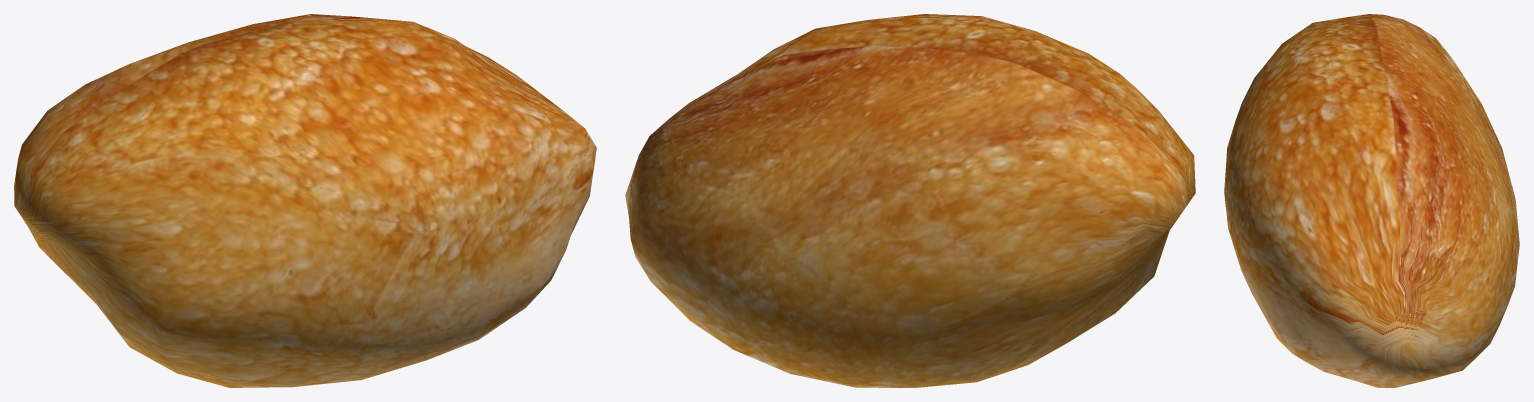
Rendered from luti2.fbx.
The picture shows the model from 3 angles, left to right: view 1: azimuth 30°, elevation 25°; view 2: azimuth 150°, elevation 25°; view 3: azimuth 270°, elevation 25°; orthographic projection. The views are drawn at different scales.
Parts seen in each view (by area): view 1: luti2; view 2: luti2; view 3: luti2.
Part boxes in pixels (left/top/right/bottom): luti2: left=14, top=14, right=596, bottom=387; luti2: left=625, top=14, right=1195, bottom=387; luti2: left=1224, top=14, right=1519, bottom=387.
Bounding box in the file's own units: 10.92 × 6.55 × 6.31.
